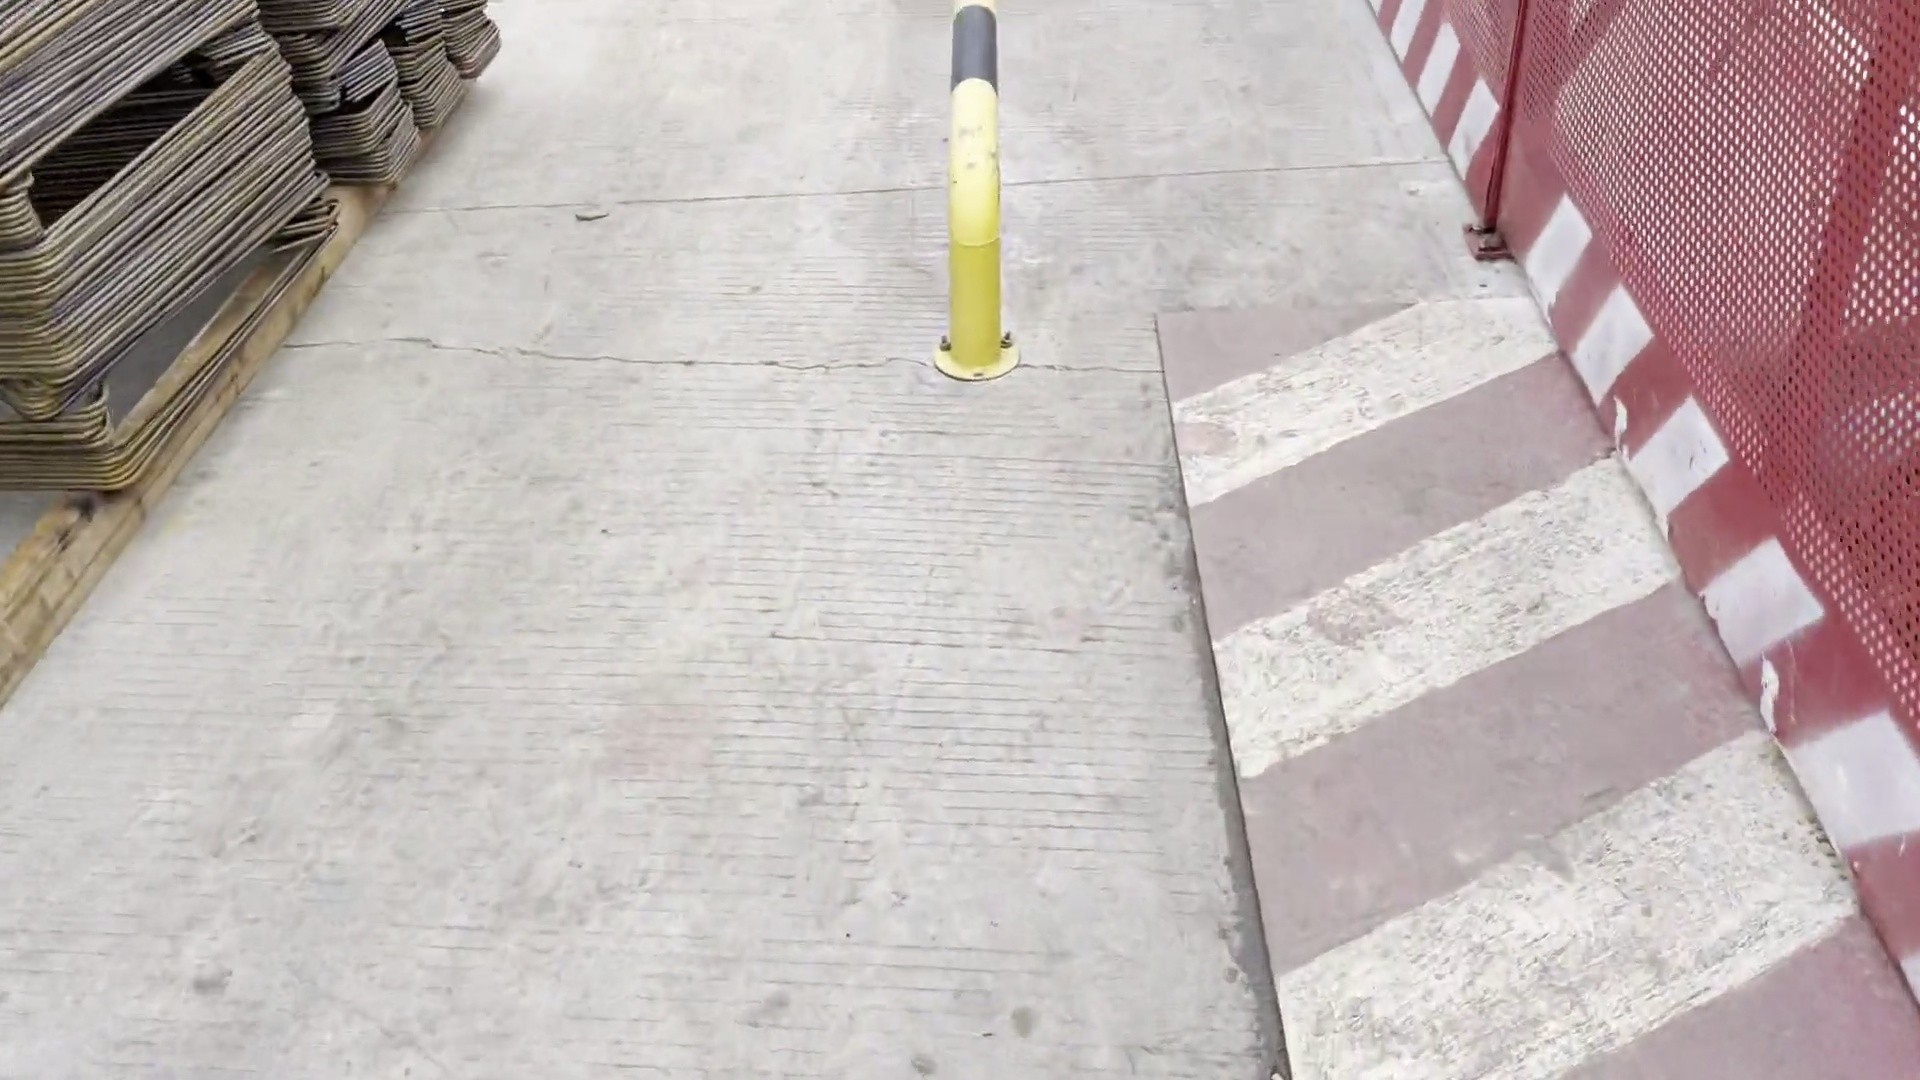fence: (1581, 335, 1920, 1080), (1371, 1, 1920, 373)
